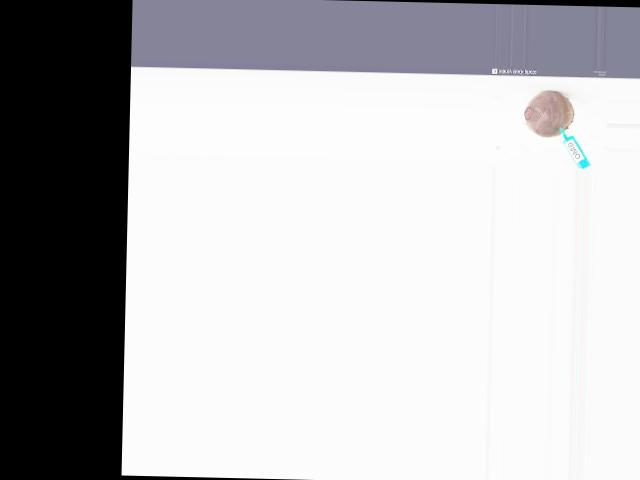beet: (524, 89, 574, 137)
